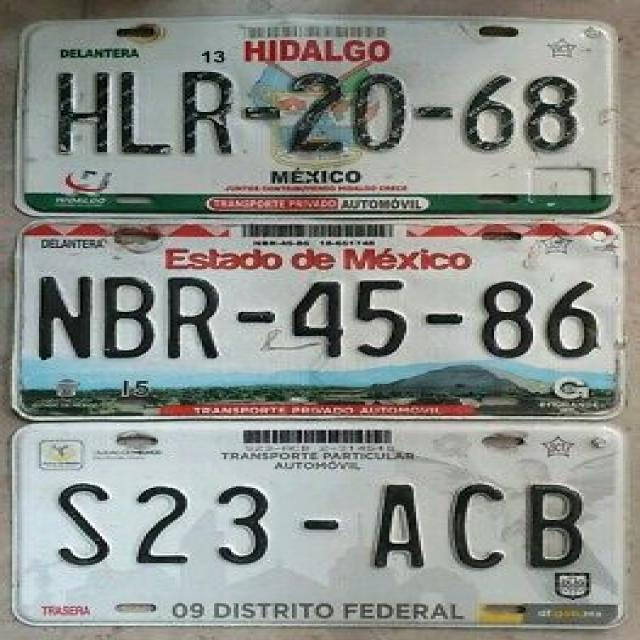placa: (21, 472, 602, 572), (37, 58, 606, 156), (23, 269, 617, 360)
